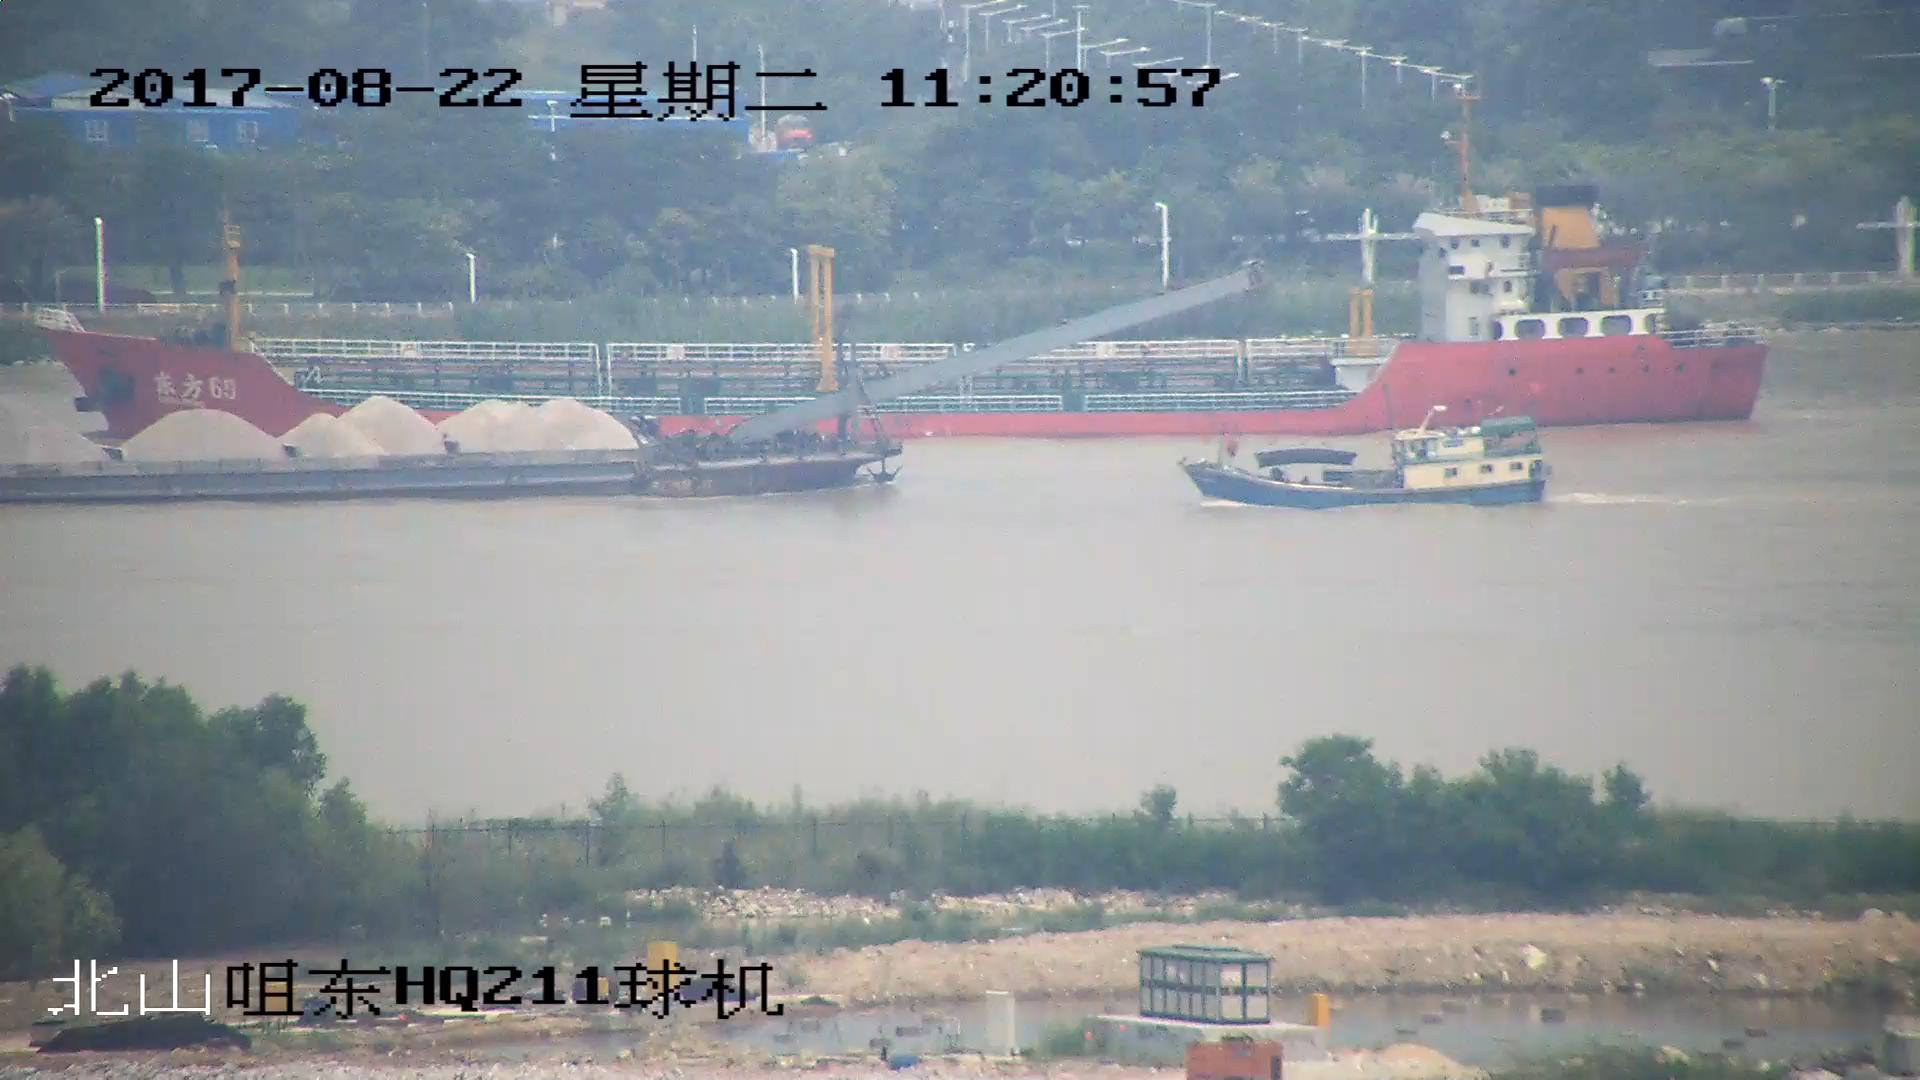fishing boat: (1180, 405, 1555, 507)
general cargo ship: (27, 122, 1759, 424)
ore carrier: (1, 263, 1255, 506)
